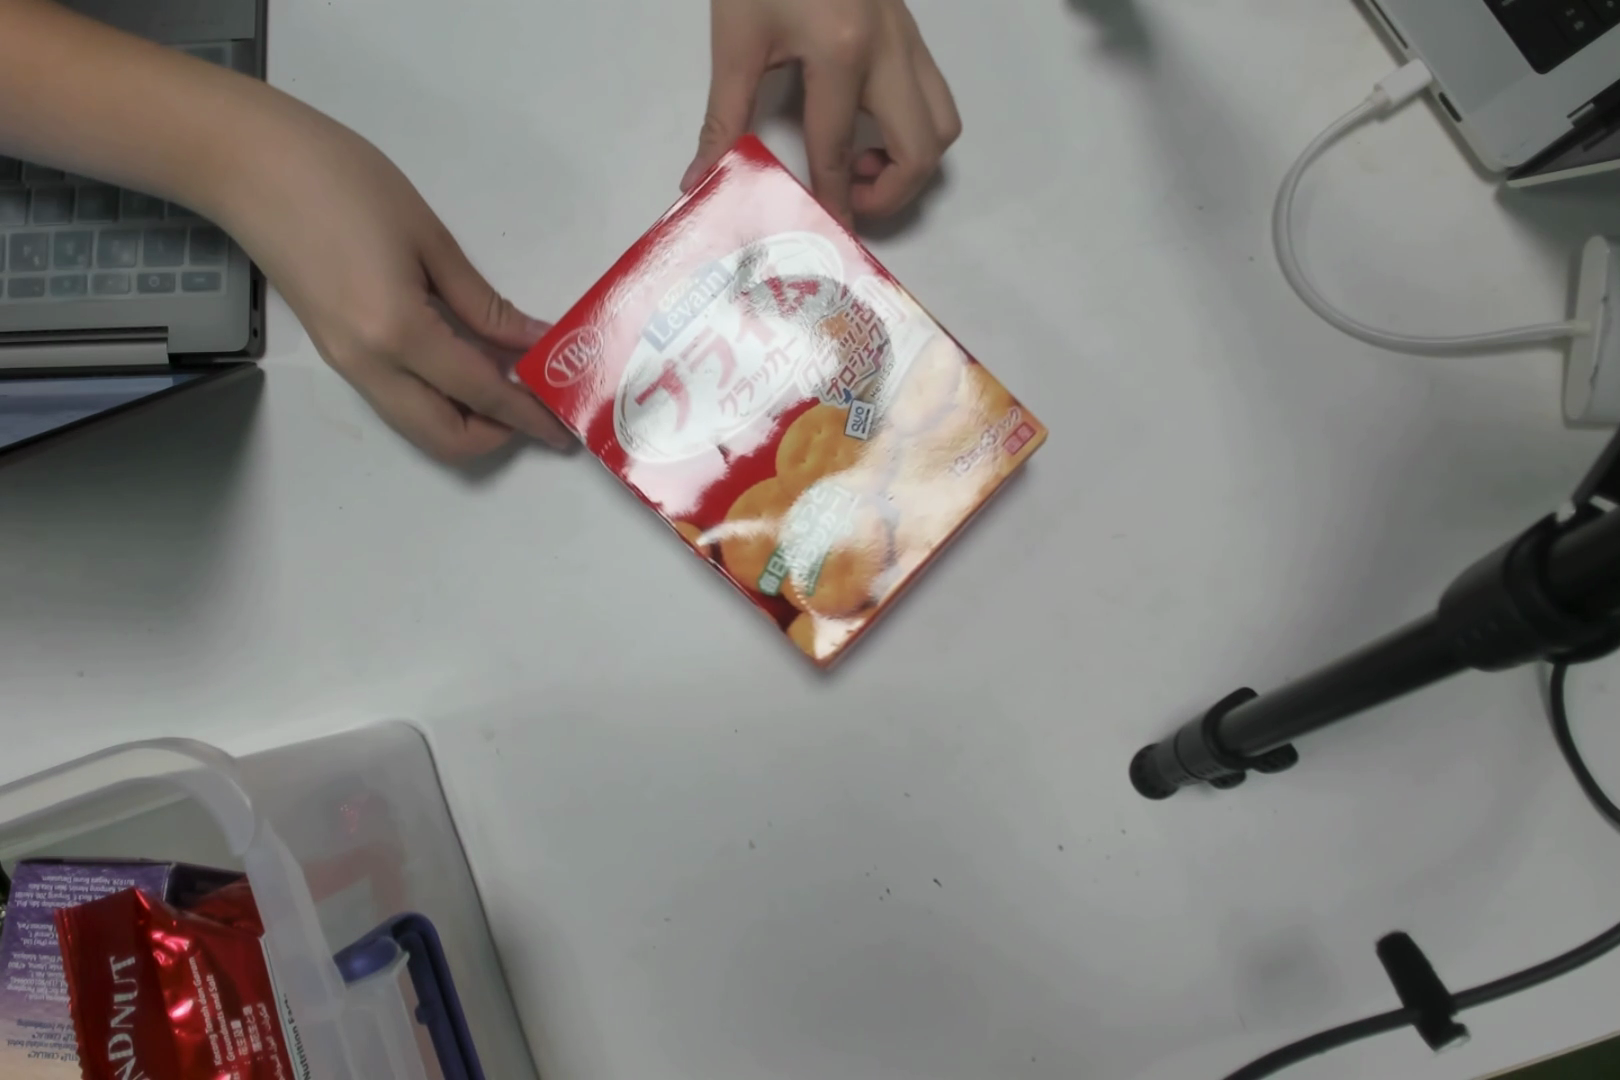c: (553, 216, 994, 644)
